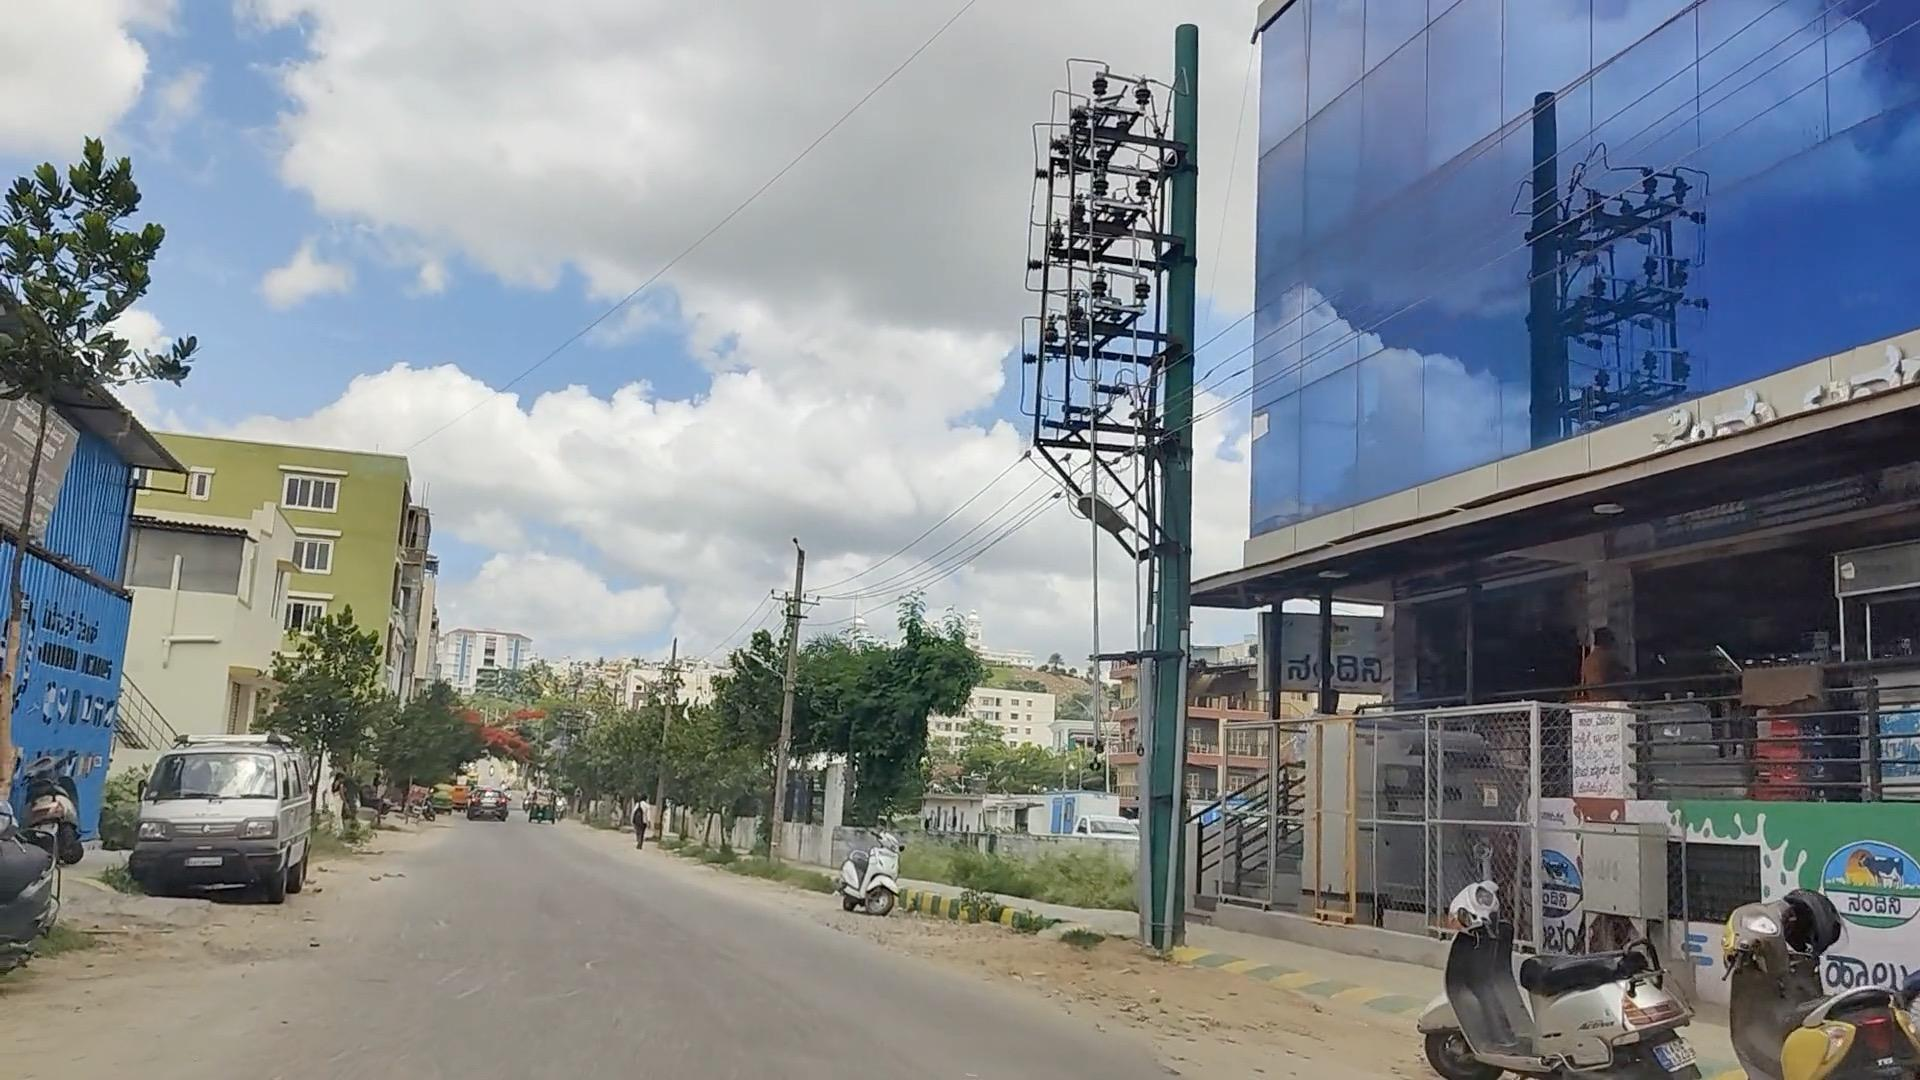LMV: (145, 745, 290, 887)
